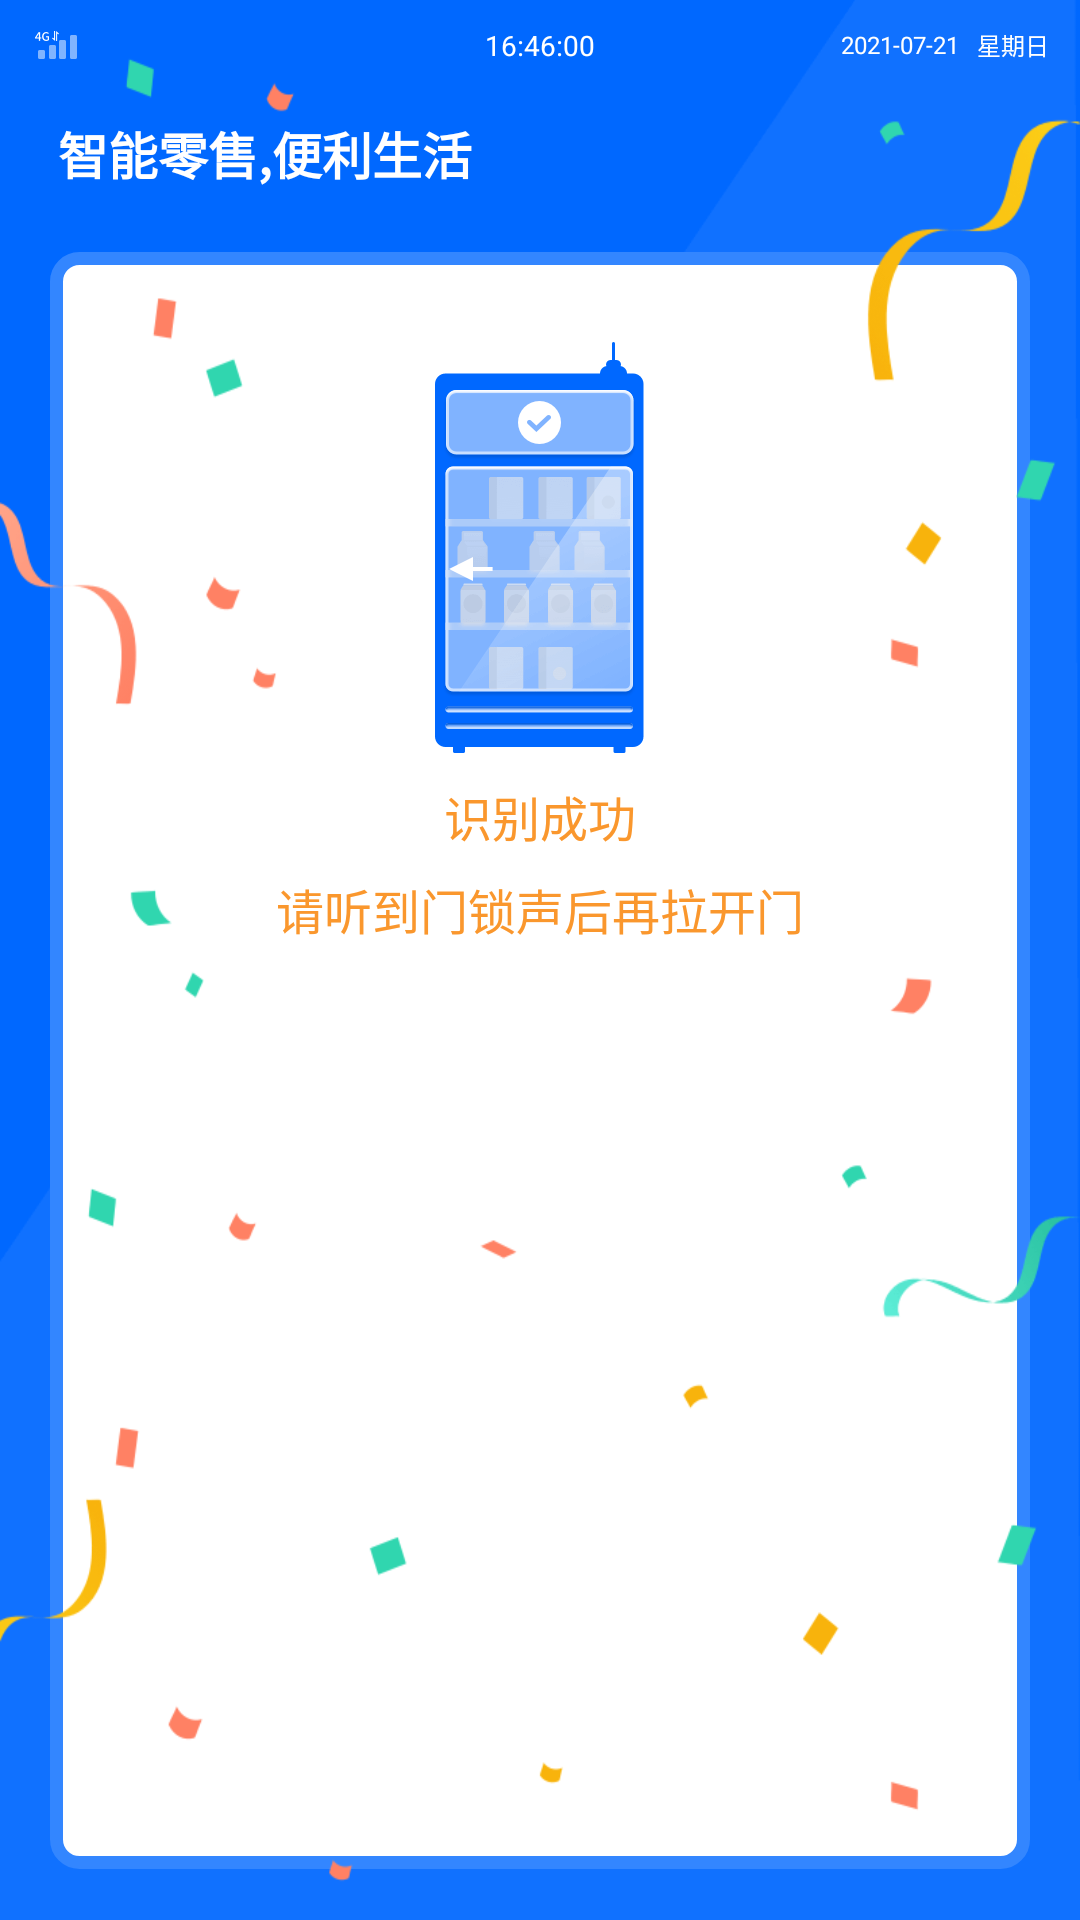

Named icons in this screenshot (1080x1920) and their bounding boxes, box(x1, y1, x2, y2):
signal: box(35, 31, 77, 59)
